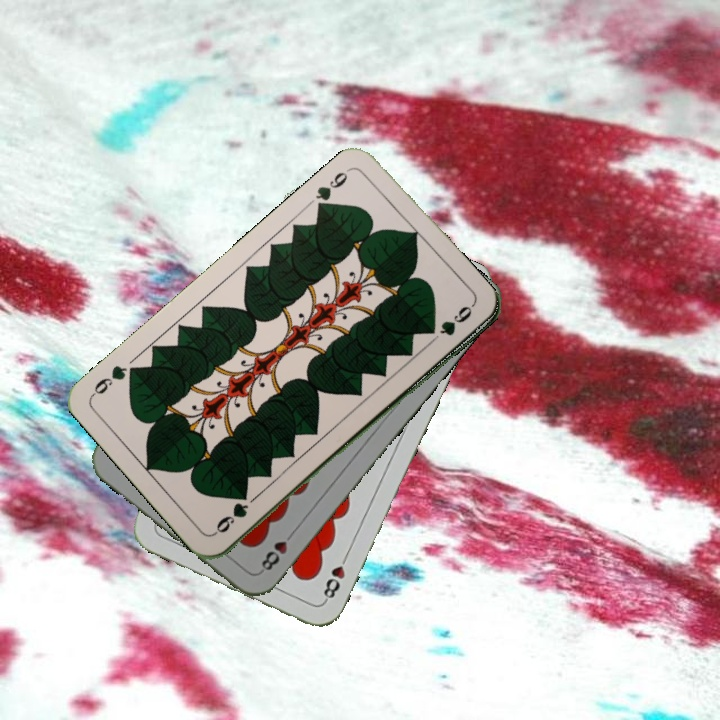G9: (311, 163, 355, 214), (210, 498, 251, 538)
H8: (256, 526, 298, 576), (319, 549, 351, 605)
